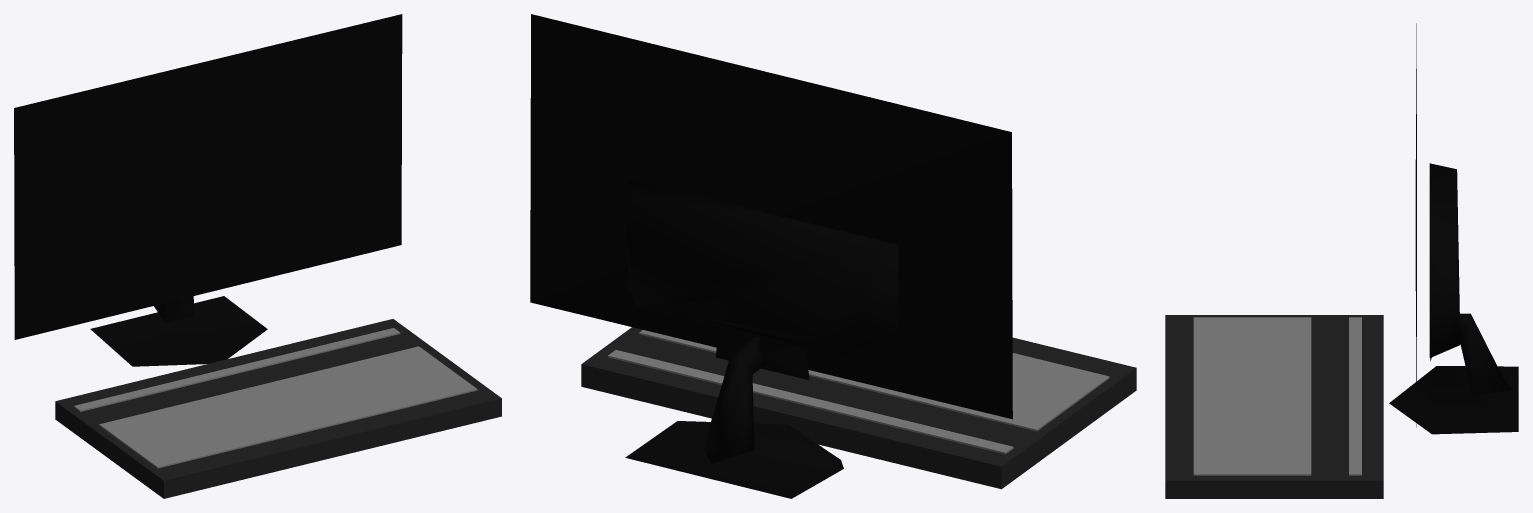
Rendered from computer_monitor.fbx.
3 views of the same model, side by side, from view 1: azimuth 30°, elevation 25°; view 2: azimuth 150°, elevation 25°; view 3: azimuth 270°, elevation 25° (orthographic). The views are drawn at different scales.
Visible parts, largest first — view 1: Object_2, Cube, Cube.002, Cube.001; view 2: Object_2, Cube, Cube.002, Cube.001; view 3: Cube, Cube.002, Object_2, Cube.001.
Boxes of the visible parts, x1,y1,x2,y2 form: Object_2: (14, 14, 402, 366); Cube: (55, 319, 501, 498); Cube.002: (99, 346, 477, 468); Cube.001: (74, 328, 400, 411); Object_2: (530, 14, 1012, 498); Cube: (581, 327, 1136, 489); Cube.002: (639, 330, 1109, 431); Cube.001: (608, 350, 1013, 454); Cube: (1165, 315, 1383, 498); Cube.002: (1193, 317, 1311, 475); Object_2: (1389, 23, 1518, 434); Cube.001: (1349, 317, 1361, 475).
Bounding box in the file's own units: 79.13 × 59.58 × 62.17.
Materials: 3 (1 with a texture image).
